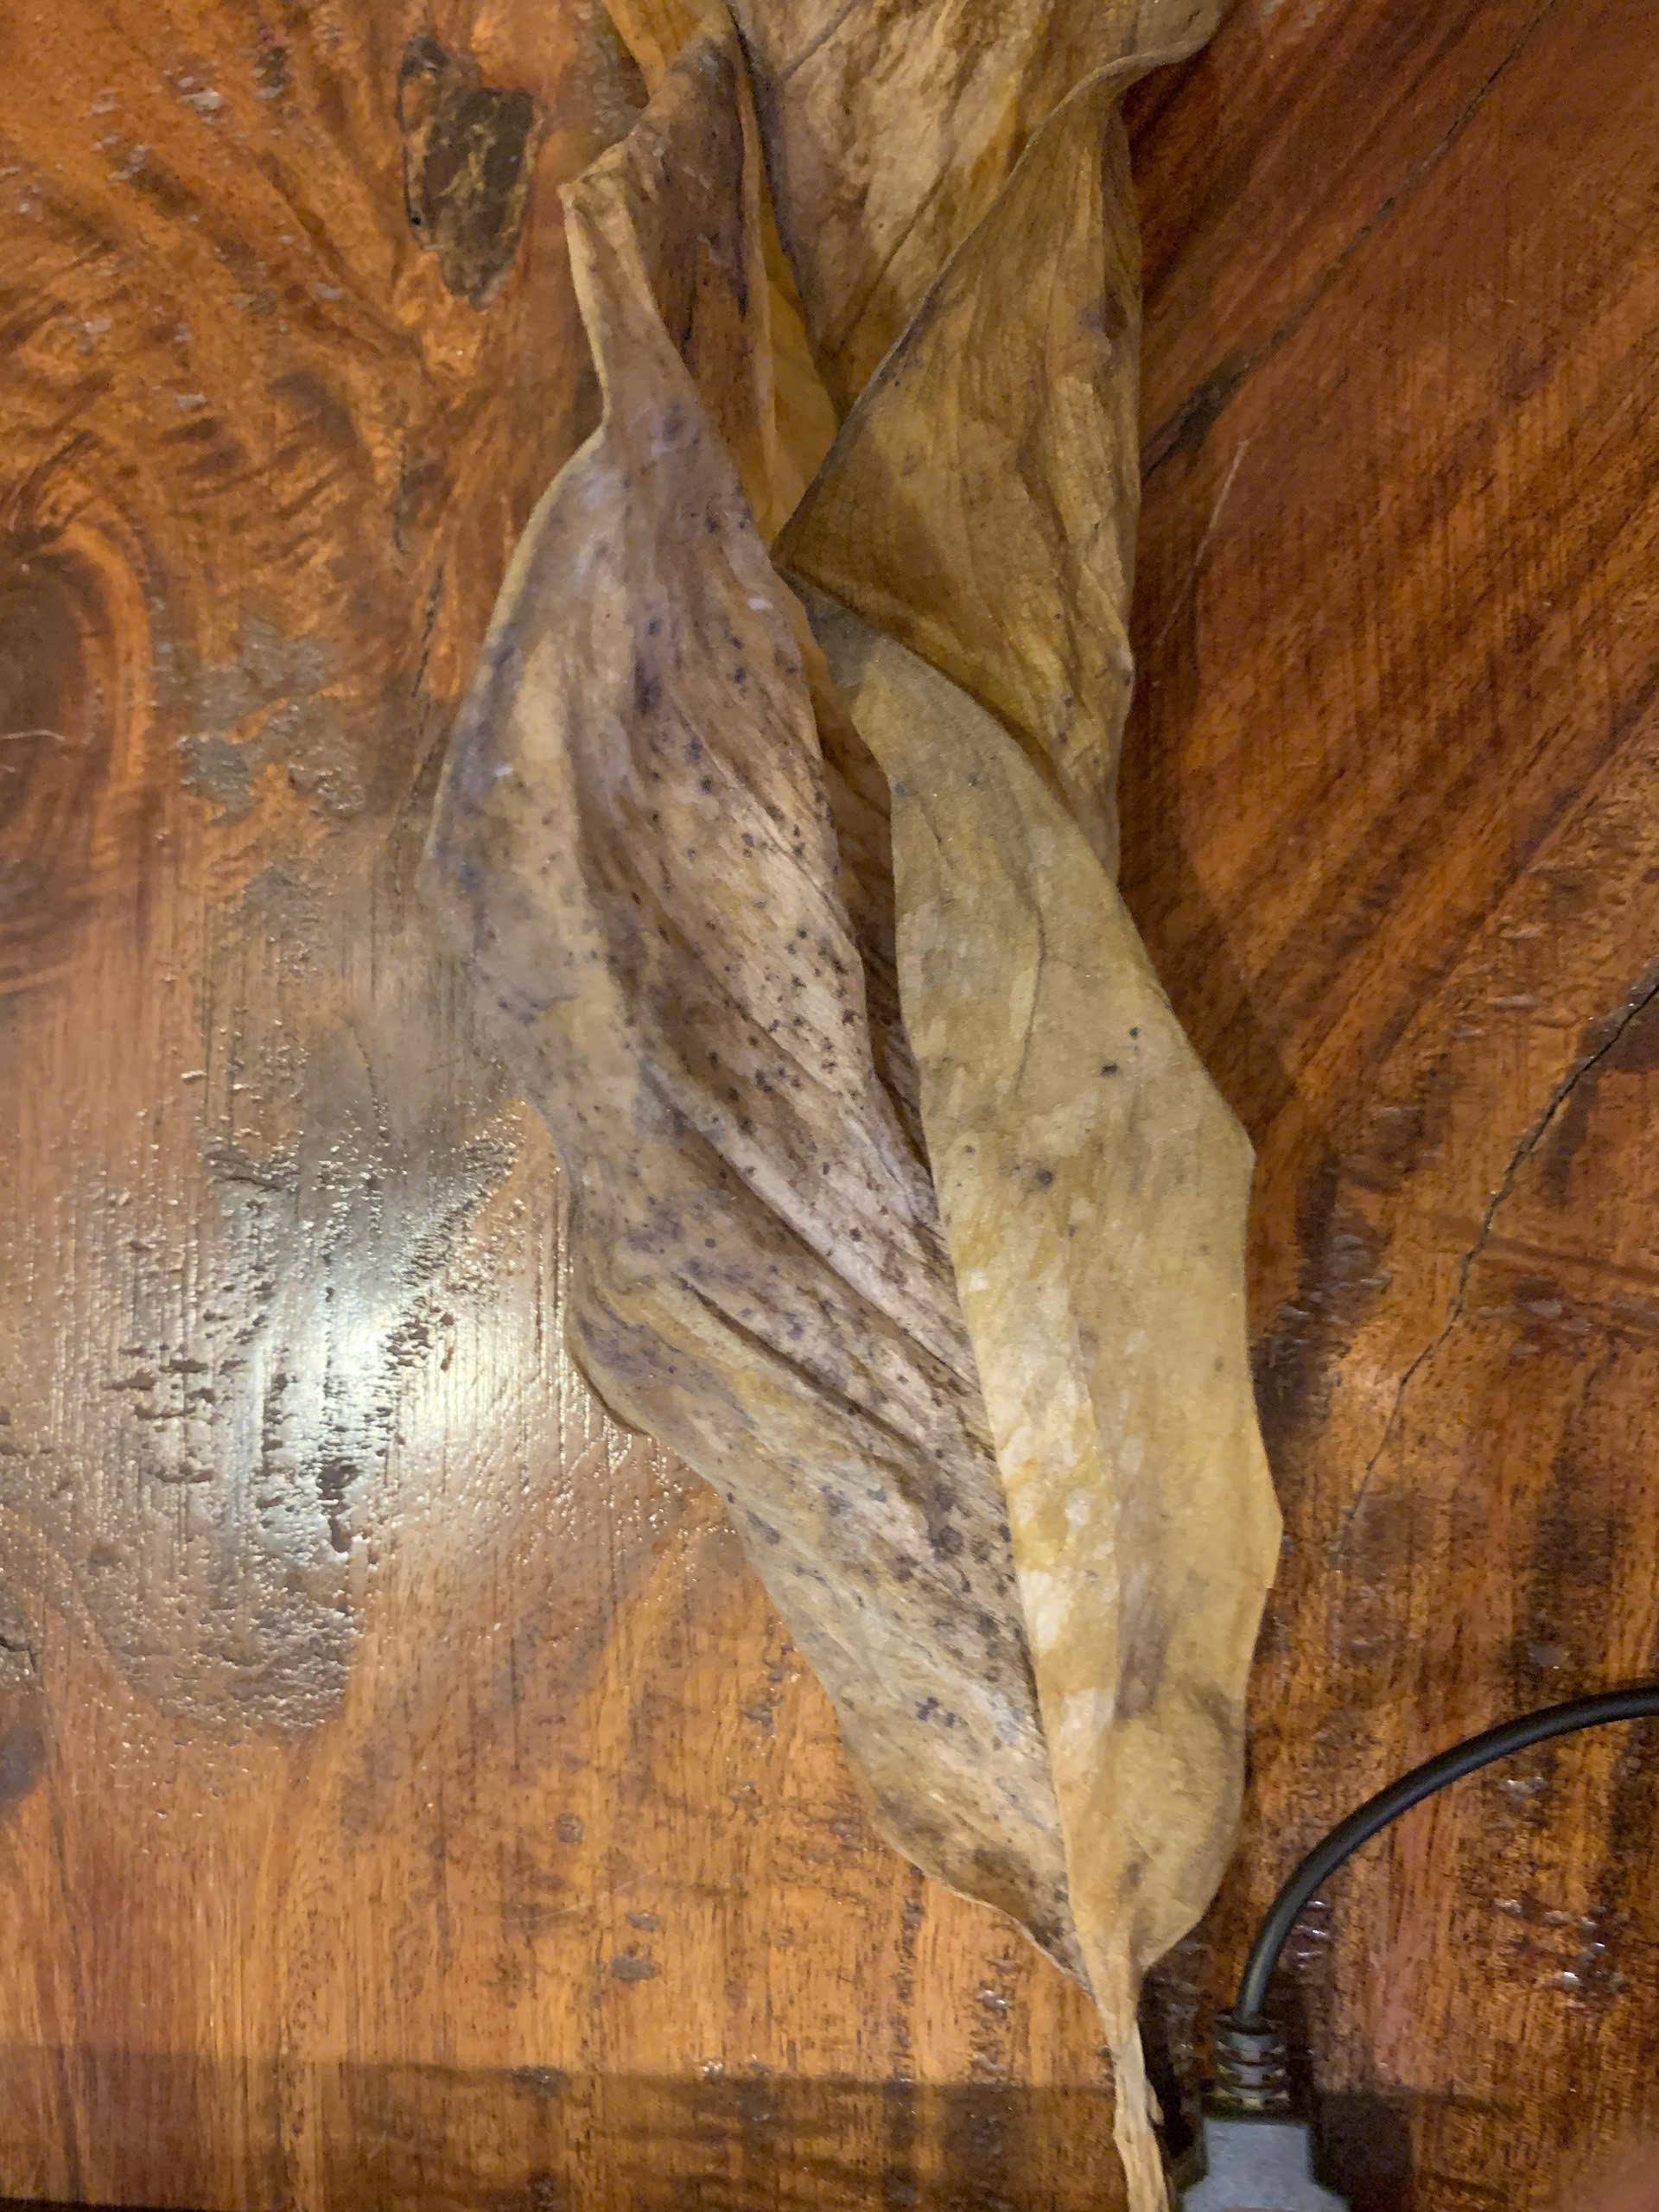Huu co: (458, 9, 1283, 1986)
